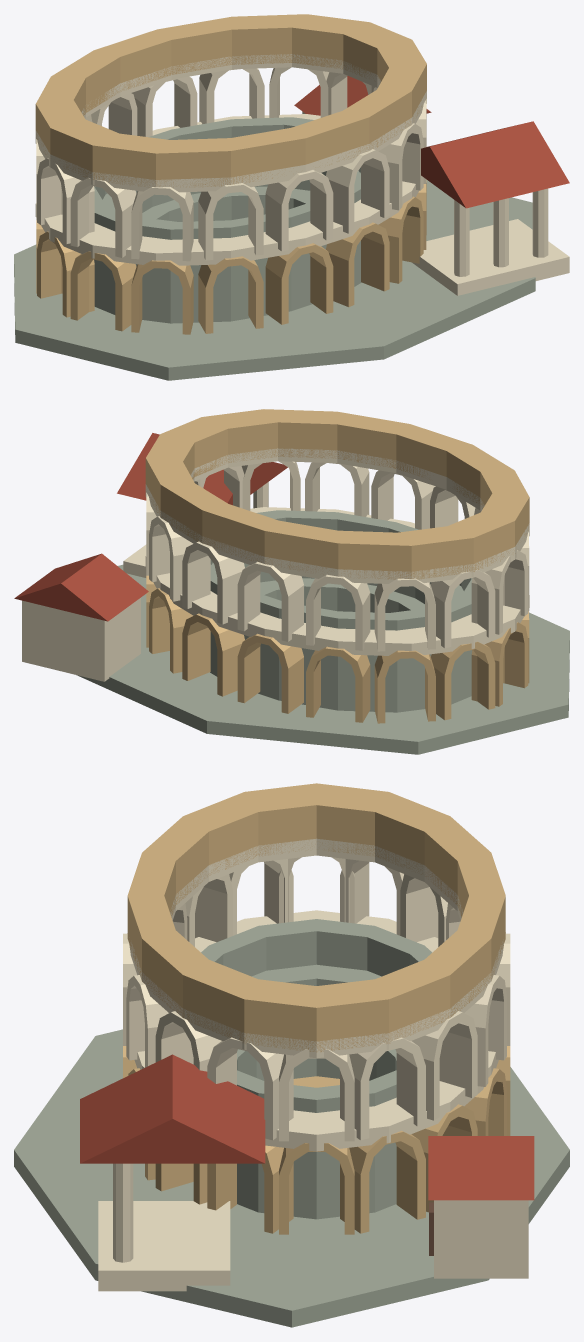
Rendered from rome.glb.
3 renders of one model, top to bottom at view 1: azimuth 30°, elevation 25°; view 2: azimuth 150°, elevation 25°; view 3: azimuth 270°, elevation 25°, orthographic. The views are drawn at different scales.
Parts seen in each view (by area): view 1: rome_sandstone, rome_cream, rome_stone, rome_roof_red; view 2: rome_sandstone, rome_cream, rome_stone, rome_roof_red; view 3: rome_cream, rome_sandstone, rome_stone, rome_roof_red.
Boxes of the visible parts, bbox=[...] form: rome_sandstone: bbox=[35, 14, 426, 334]; rome_cream: bbox=[35, 54, 569, 295]; rome_stone: bbox=[14, 117, 535, 380]; rome_roof_red: bbox=[294, 76, 569, 208]; rome_sandstone: bbox=[145, 409, 529, 723]; rome_cream: bbox=[22, 448, 529, 681]; rome_stone: bbox=[76, 510, 569, 754]; rome_roof_red: bbox=[14, 433, 287, 621]; rome_cream: bbox=[98, 838, 528, 1291]; rome_sandstone: bbox=[123, 783, 510, 1234]; rome_stone: bbox=[14, 919, 569, 1327]; rome_roof_red: bbox=[80, 1054, 534, 1200].
Bounding box in the file's own units: 2.1 × 0.7605 × 1.53.
